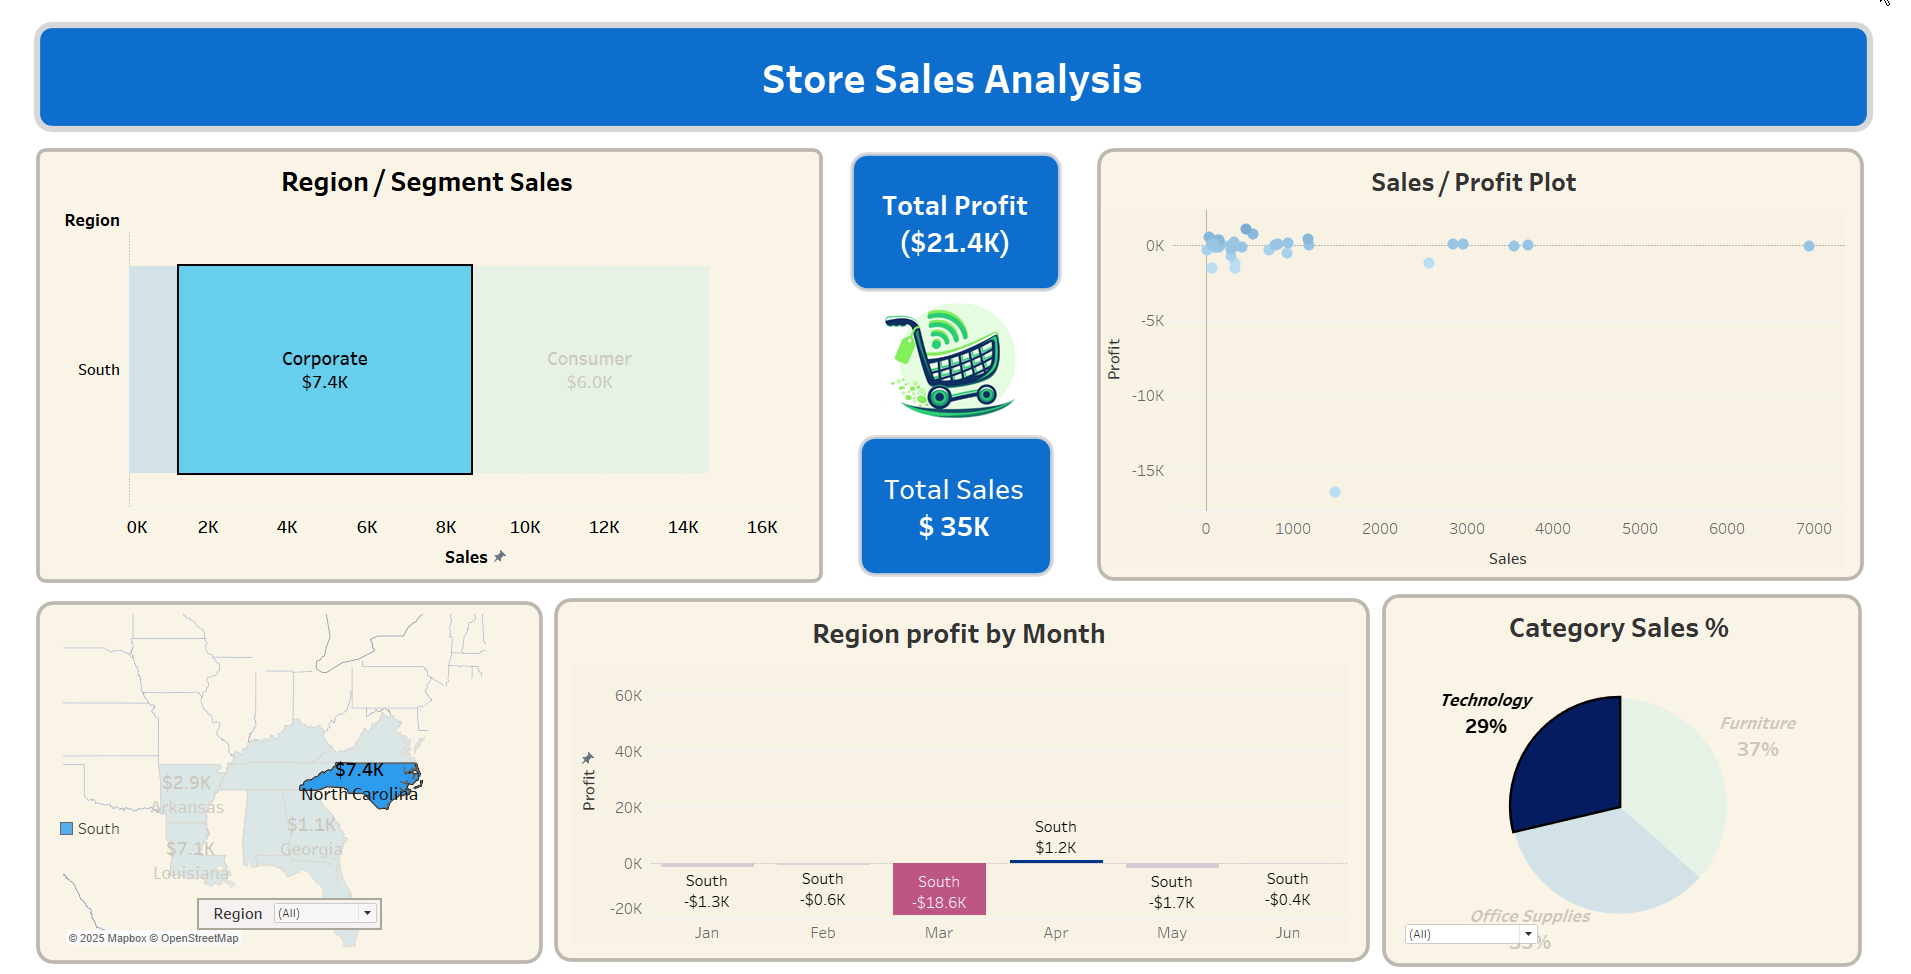

The page's visual inventory and layout, read from the dashboard file:
{"tool":"tableau","page":{"name":"Dashboard 2","canvas":[1000,1000],"units":"permille","ordinal":1},"visuals":[{"type":"worksheet","title":"design","mark":"Automatic","box":[4.8,9.7,990.3,980.6]},{"type":"worksheet","title":"Barchart","mark":"Automatic","rows":["Region"],"cols":["Sales"],"box":[27.2,160,397.7,417]},{"type":"worksheet","title":"profit card","mark":"Automatic","box":[454.4,161.2,92.9,126.1]},{"type":"worksheet","title":"scatter","mark":"Automatic","rows":["Profit"],"cols":["Sales"],"box":[578.1,162.4,386.2,408.5]},{"type":"image","param":"G:/A GM/ShareX/Screenshots/2025-05/brave_w6j5kx6dtM.png","box":[464.1,300.6,68.8,122.4]},{"type":"worksheet","title":"sales card","mark":"Automatic","box":[455.6,448.5,89.3,120]},{"type":"worksheet","title":"Donut","mark":"Pie","rows":["Calculation_2244762950155411456","Calculation_2244762950155431937"],"box":[732.1,606.1,229.3,350.3]},{"type":"worksheet","title":"Trend bar","mark":"Bar","rows":["Profit"],"cols":["Order Date"],"box":[301.2,612.1,404.4,333.3]},{"type":"worksheet","title":"Map","mark":"Multipolygon","box":[36.2,614.6,241.4,333.3]},{"type":"legend","title":"Map","param":"[federated.0akl8o1068ae7p15jsy2k10h22pm].[none:Region:nk]","box":[32.6,819.4,49.5,128.5]},{"type":"filter","title":"Map","param":"[federated.0akl8o1068ae7p15jsy2k10h22pm].[none:Region:nk]","box":[106.2,899.4,96.6,31.5]},{"type":"filter","title":"Donut","param":"[federated.0akl8o1068ae7p15jsy2k10h22pm].[none:Product Category:nk]","box":[733.9,922.4,72.4,26.7]}]}

Visuals, with their boxes on the dashboard's canvas, which has no fixed pixel size, in thousandths of its width and height (x1, y1, x2, y2). These are canvas units, not pixel positions in the 1911x974 screenshot, which may show the page scaled, cropped or inside an application window:
"design" worksheet: (x1=5, y1=10, x2=995, y2=990)
"Barchart" worksheet: (x1=27, y1=160, x2=425, y2=577)
"profit card" worksheet: (x1=454, y1=161, x2=547, y2=287)
"scatter" worksheet: (x1=578, y1=162, x2=964, y2=571)
image: (x1=464, y1=301, x2=533, y2=423)
"sales card" worksheet: (x1=456, y1=448, x2=545, y2=568)
"Donut" worksheet (Pie marks): (x1=732, y1=606, x2=961, y2=956)
"Trend bar" worksheet (Bar marks): (x1=301, y1=612, x2=706, y2=945)
"Map" worksheet (Multipolygon marks): (x1=36, y1=615, x2=278, y2=948)
"Map" legend: (x1=33, y1=819, x2=82, y2=948)
"Map" filter: (x1=106, y1=899, x2=203, y2=931)
"Donut" filter: (x1=734, y1=922, x2=806, y2=949)
